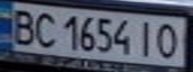1: (57, 11, 81, 51)
4: (112, 16, 136, 56)
5: (93, 15, 115, 54)
6: (75, 14, 96, 52)
B: (6, 6, 39, 46)
C: (30, 9, 60, 48)
I: (133, 18, 160, 57)
O: (151, 20, 184, 60)
